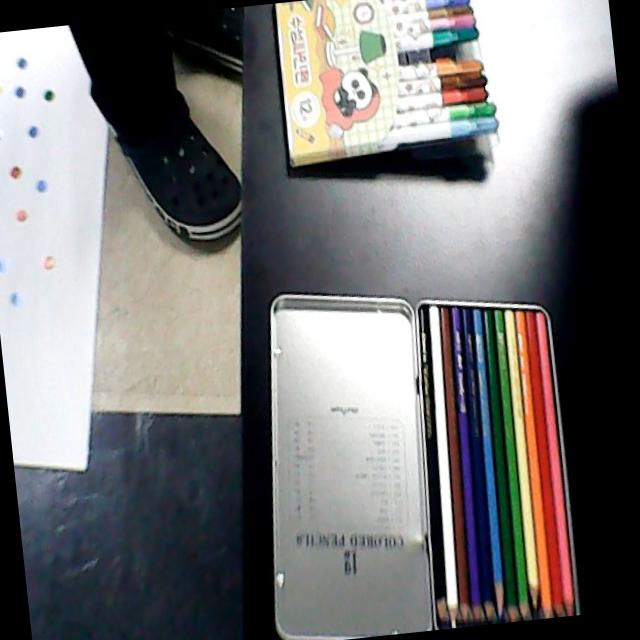color: (414, 292, 584, 628)
signpen: (271, 0, 506, 178)
